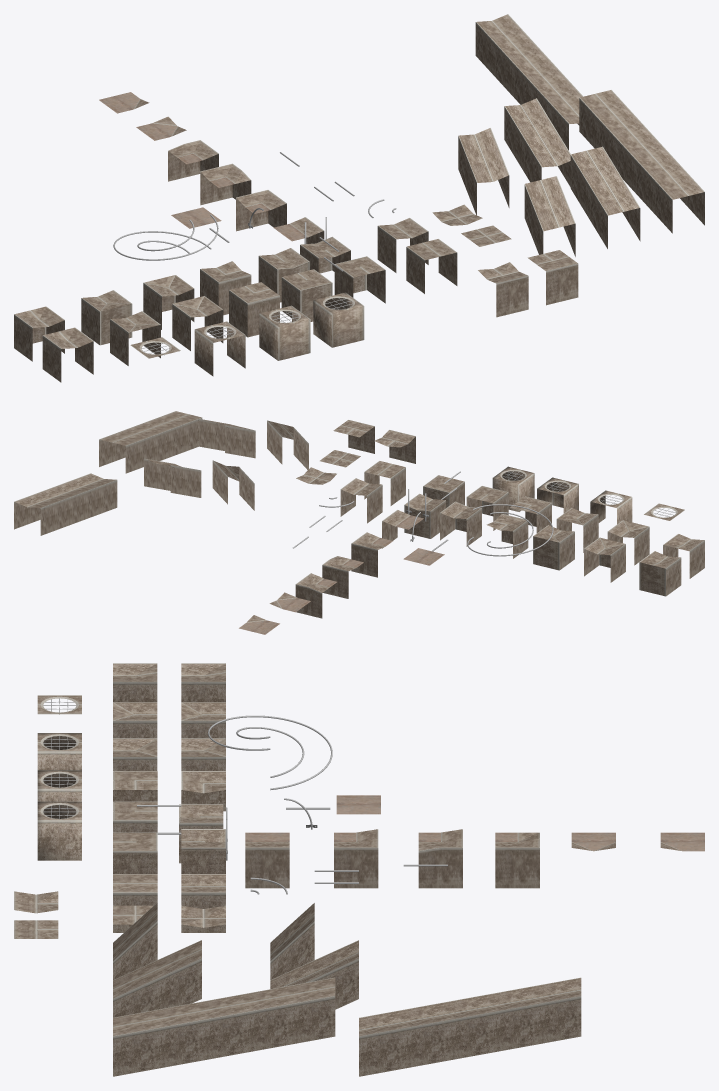
File: Ballance_tileset.glb
3 views of the same model, one above another, from view 1: azimuth 30°, elevation 25°; view 2: azimuth 150°, elevation 25°; view 3: azimuth 270°, elevation 25° (orthographic). The views are drawn at different scales.
Visible parts, largest first — view 1: ground_flat_steep3.col, ground_curved_steep3.col, ground_flat_steep2.col, ground_curved_steep2.col, ground_flat_steep1.col, ground_curved_steep1.col, casing.col, casing.001.col, ground_flat_turn.col, ground_flattocurved_end.col, ground_curvedtoflat2_open.col, ground_flat.col (+23 smaller); view 2: ground_curved_steep3.col, ground_flat_steep3.col, ground_flat_steep2.col, ground_curved_steep2.col, ground_curvedtoflat2_closed.col, ground_curvedtoflat_end.col, ground_flattocurved_end.col, ground_curved_start.col, ground_curved_end.col, ground_curved.col, casing.col, ground_flat_steep1.col (+23 smaller); view 3: ground_flat_steep3.col, ground_curved_steep3.col, ground_flat_steep2.col, casing.col, ground_curved_steep2.col, Cube.007, Cube.008, ground2_turn.col, ground2_side.col, ground_flat_steep1.col, ground_curved_steep1.col, ground_curved_end.col (+23 smaller).
Part boxes in pixels (bbox=[...]): ground_flat_steep3.col: bbox=[579, 90, 704, 233]; ground_curved_steep3.col: bbox=[475, 14, 582, 150]; ground_flat_steep2.col: bbox=[570, 146, 640, 248]; ground_curved_steep2.col: bbox=[504, 98, 570, 186]; ground_flat_steep1.col: bbox=[524, 176, 575, 256]; ground_curved_steep1.col: bbox=[458, 128, 509, 215]; casing.col: bbox=[313, 292, 364, 347]; casing.001.col: bbox=[259, 305, 310, 360]; ground_flat_turn.col: bbox=[229, 282, 279, 337]; ground_flattocurved_end.col: bbox=[81, 290, 132, 345]; ground_curvedtoflat2_open.col: bbox=[42, 327, 93, 382]; ground_flat.col: bbox=[406, 239, 457, 293]; ground_curved_steep3.col: bbox=[14, 473, 117, 535]; ground_flat_steep3.col: bbox=[99, 411, 202, 473]; ground_flat_steep2.col: bbox=[198, 418, 255, 458]; ground_curved_steep2.col: bbox=[144, 458, 201, 497]; ground_curvedtoflat2_closed.col: bbox=[639, 551, 681, 596]; ground_curvedtoflat_end.col: bbox=[533, 525, 574, 570]; ground_flattocurved_end.col: bbox=[584, 537, 625, 582]; ground_curved_start.col: bbox=[440, 501, 481, 546]; ground_curved_end.col: bbox=[404, 493, 445, 538]; ground_curved.col: bbox=[340, 478, 382, 523]; casing.col: bbox=[492, 466, 534, 511]; ground_flat_steep1.col: bbox=[267, 420, 308, 469]; ground_flat_steep3.col: bbox=[113, 977, 335, 1076]; ground_curved_steep3.col: bbox=[359, 977, 581, 1076]; ground_flat_steep2.col: bbox=[113, 940, 201, 1017]; casing.col: bbox=[37, 801, 81, 860]; ground_curved_steep2.col: bbox=[270, 940, 358, 1009]; Cube.007: bbox=[418, 829, 462, 888]; Cube.008: bbox=[495, 832, 539, 888]; ground2_turn.col: bbox=[334, 829, 378, 888]; ground2_side.col: bbox=[245, 832, 289, 888]; ground_flat_steep1.col: bbox=[113, 902, 157, 979]; ground_curved_steep1.col: bbox=[270, 903, 314, 979]; ground_curved_end.col: bbox=[181, 829, 225, 873].
Size of the model in its own units: 19.89 by 2 by 15.55.
5 materials, 2 textured.
